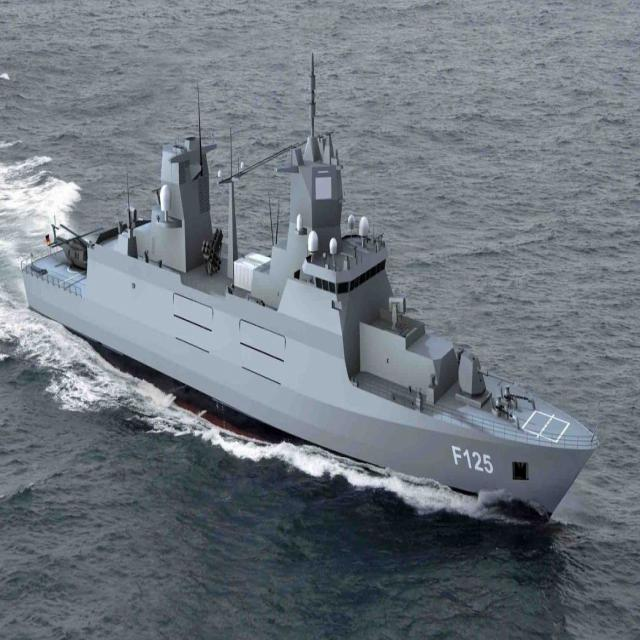Fragata: (13, 15, 606, 533)
